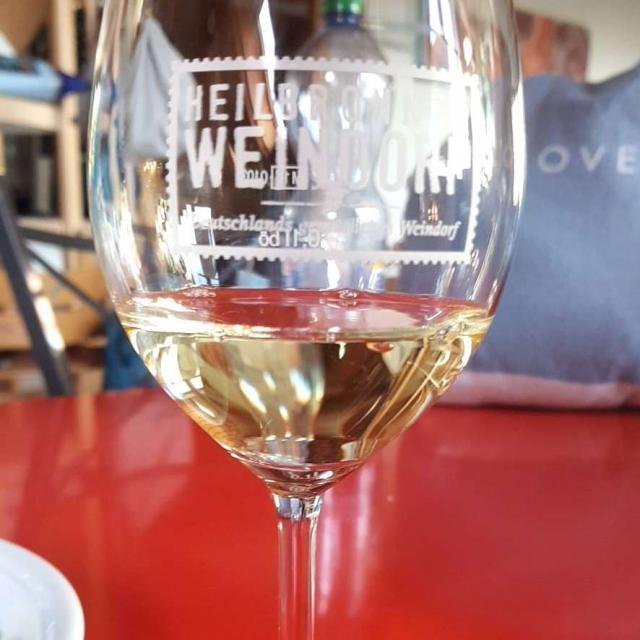wine: (129, 287, 473, 485)
